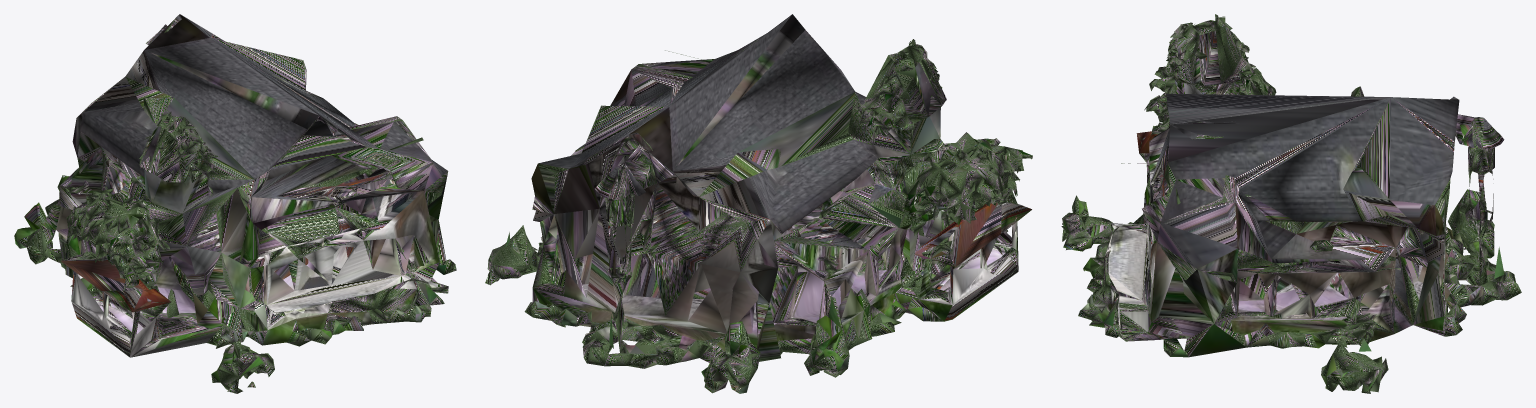
File: house.glb
The picture shows the model from 3 angles, left to right: view 1: azimuth 30°, elevation 25°; view 2: azimuth 150°, elevation 25°; view 3: azimuth 270°, elevation 25°; orthographic projection. The views are drawn at different scales.
Visible parts, largest first — view 1: house; view 2: house; view 3: house.
Boxes of the visible parts, x1=… form: house: x1=14, y1=14, x2=456, y2=393; house: x1=485, y1=14, x2=1032, y2=393; house: x1=1061, y1=14, x2=1521, y2=393.
Size of the model in its own units: 1.89 by 1.03 by 1.87.
1 material, 1 textured.
